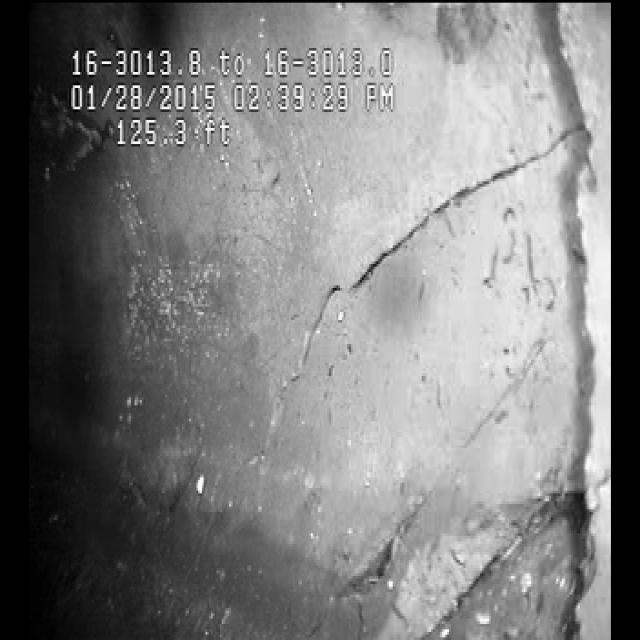Crack: (304, 126, 544, 380)
